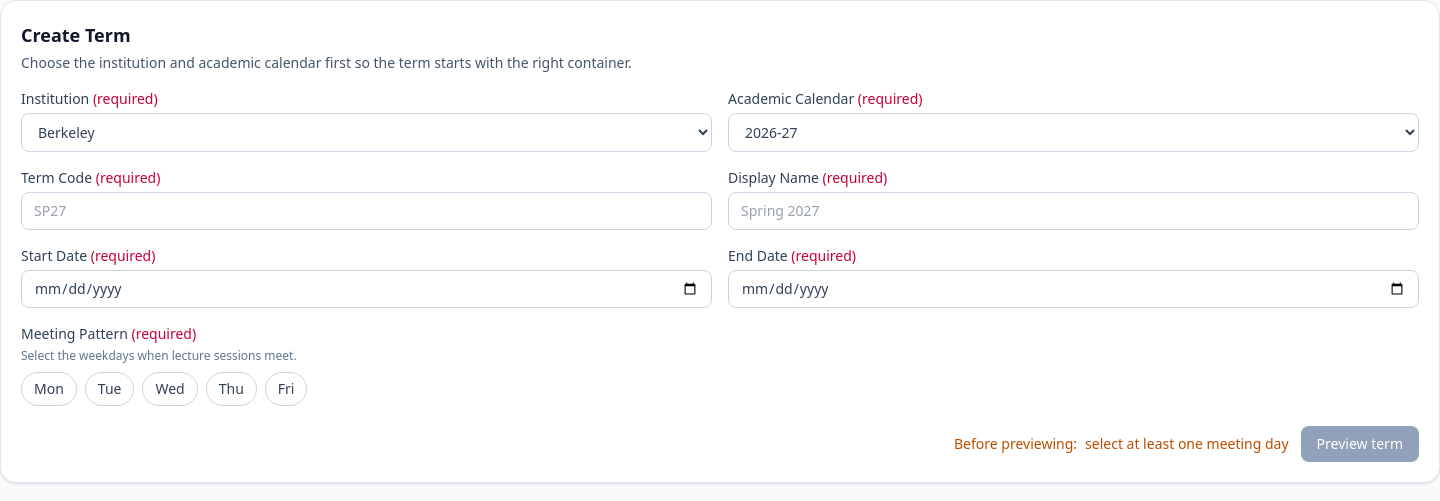
Test case: CreateTermPanel › shows conflicts and disables apply when there are blockers
The width and height of the screenshot is (1440, 501).
In the field labelled "Term Code": (366, 211) [21, 192, 712, 230], type "FA27"
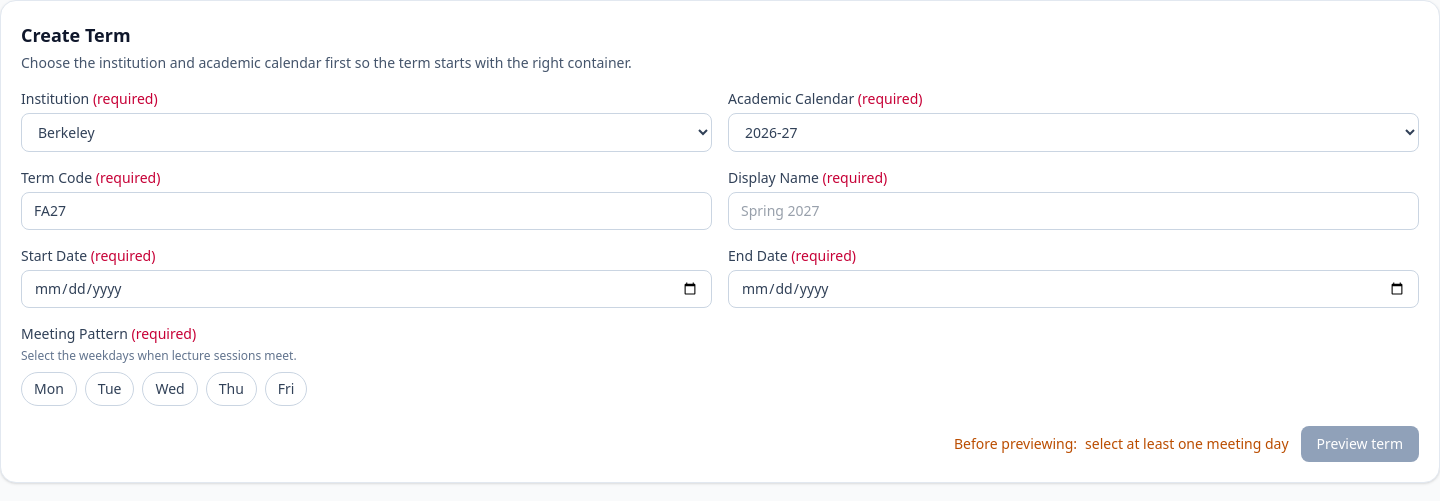
In the field labelled "Display Name": (1074, 211) [728, 192, 1419, 230], type "Fall 2027"
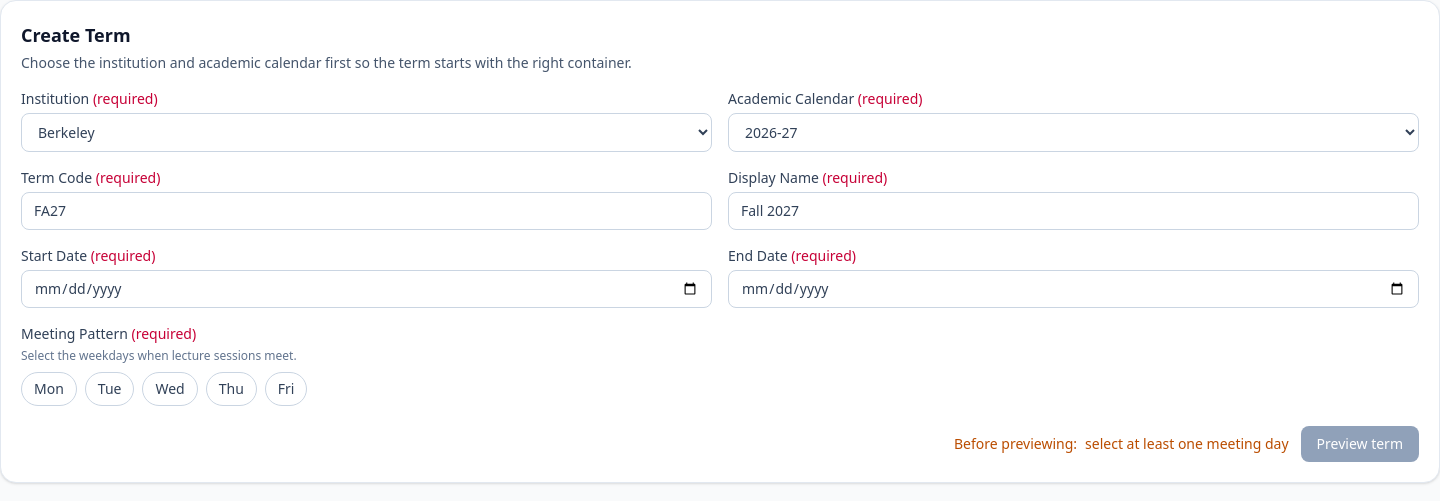
In the date field labelled "Start Date": (366, 289) [21, 270, 712, 308], type "2027-12-01"
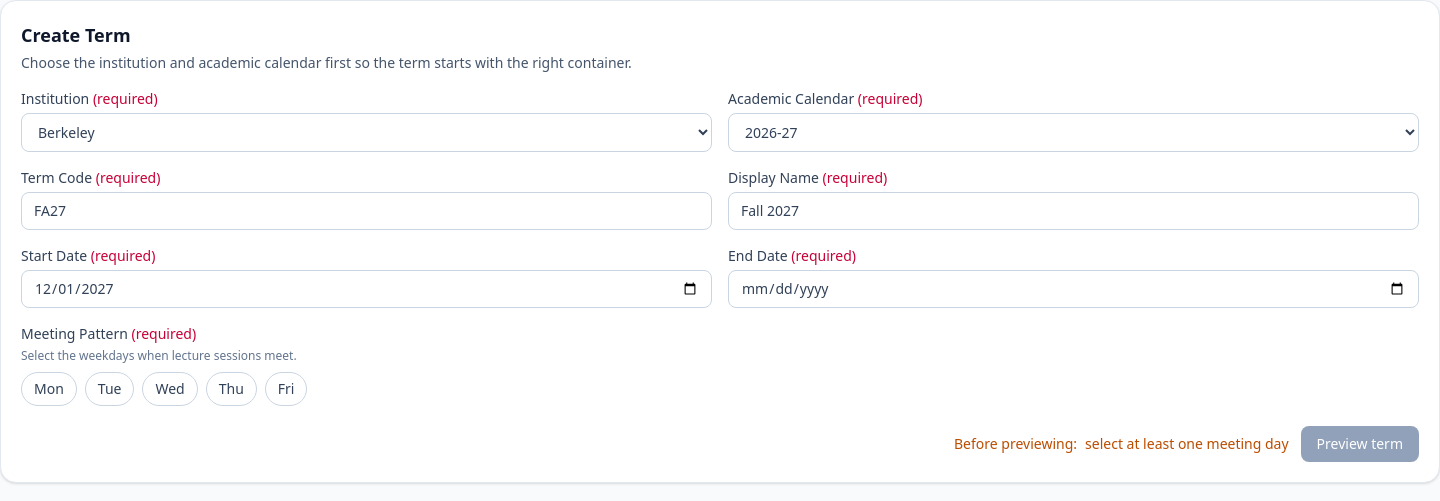
In the date field labelled "End Date": (1074, 289) [728, 270, 1419, 308], type "2027-08-01"
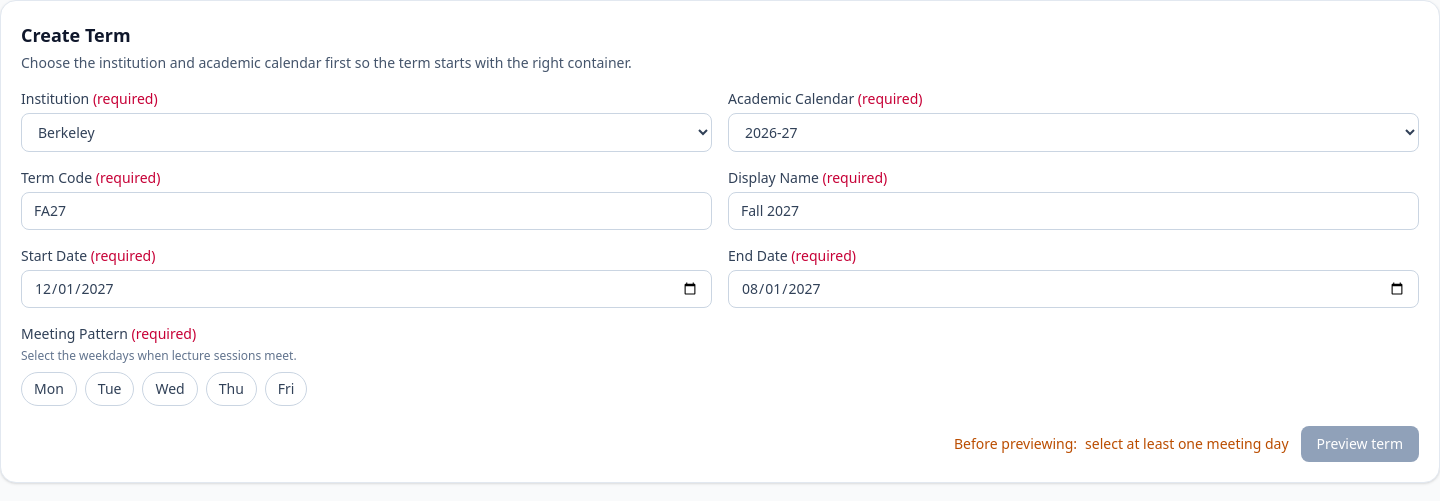
Click the checkbox "Mon": (49, 389) [21, 372, 77, 406]
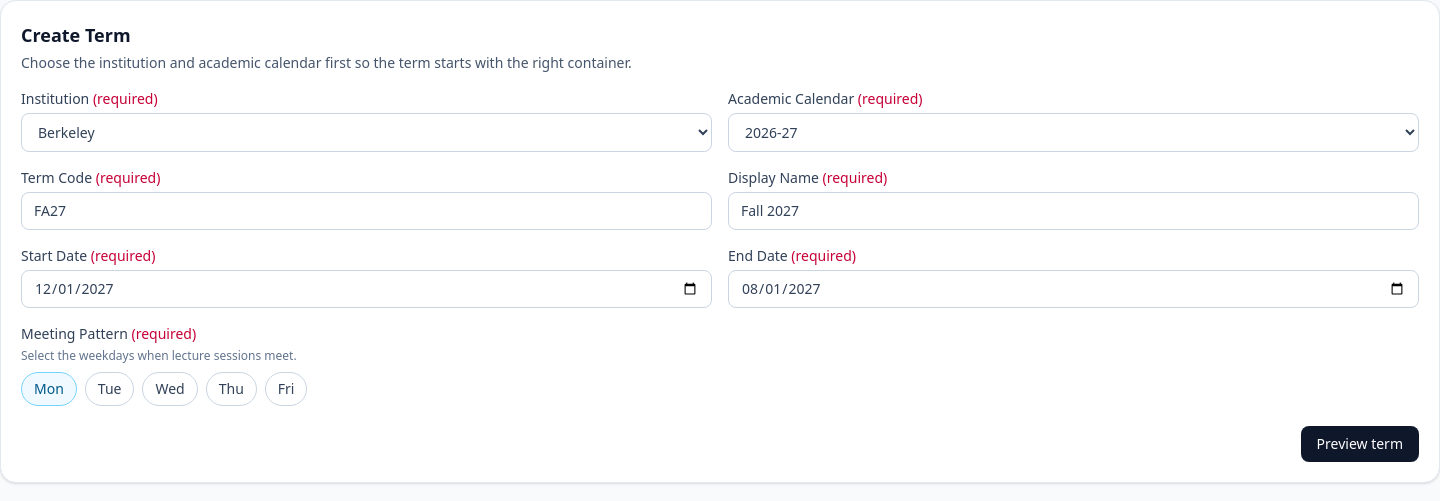
Click the button "Preview term": (1360, 444) [1301, 426, 1419, 462]
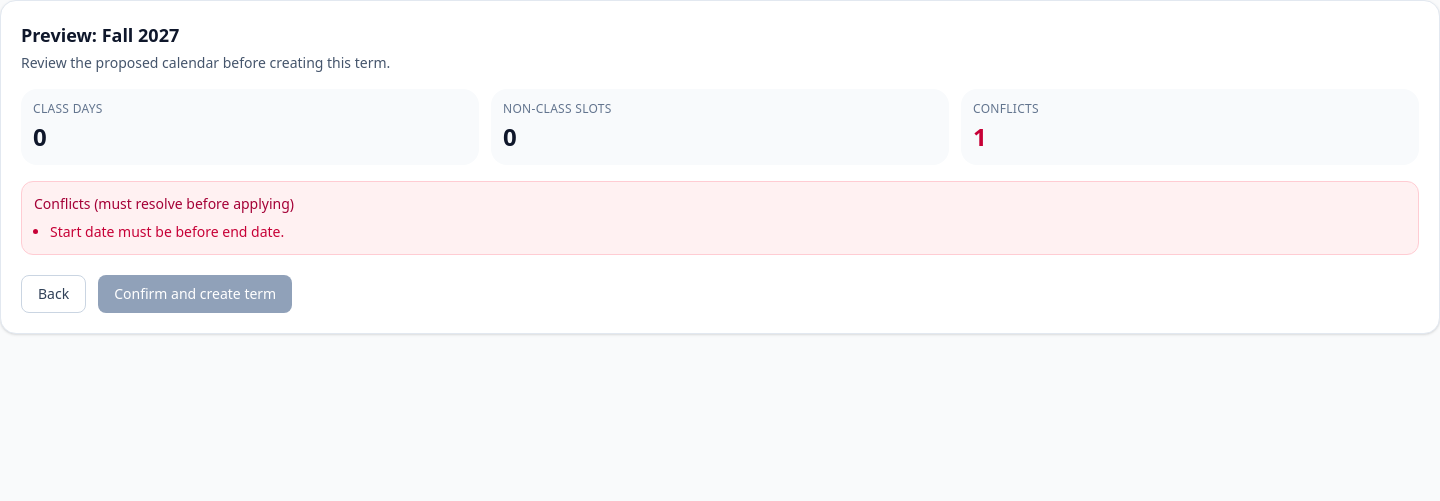
Result: the list item "Start date must be before end date." is shown at [50, 222, 284, 241]
Result: the button "Confirm and create term" is disabled at [98, 275, 292, 313]
